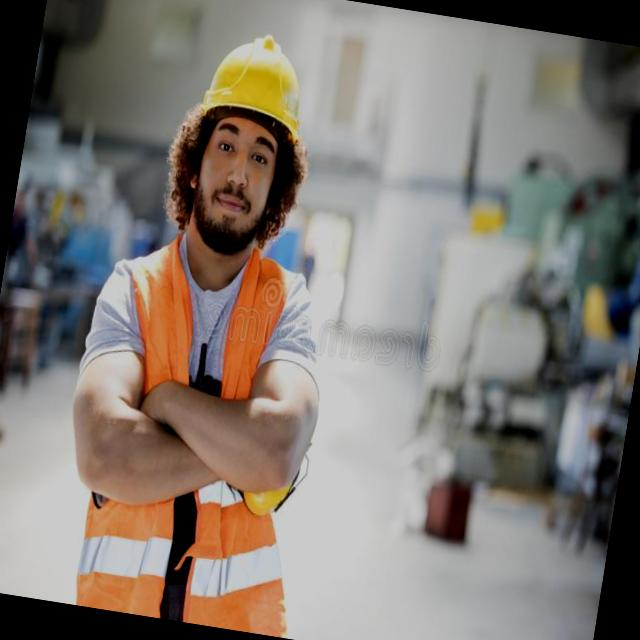helmet: (193, 26, 327, 155)
no-goggles: (202, 131, 278, 174)
vest: (59, 220, 338, 638)
